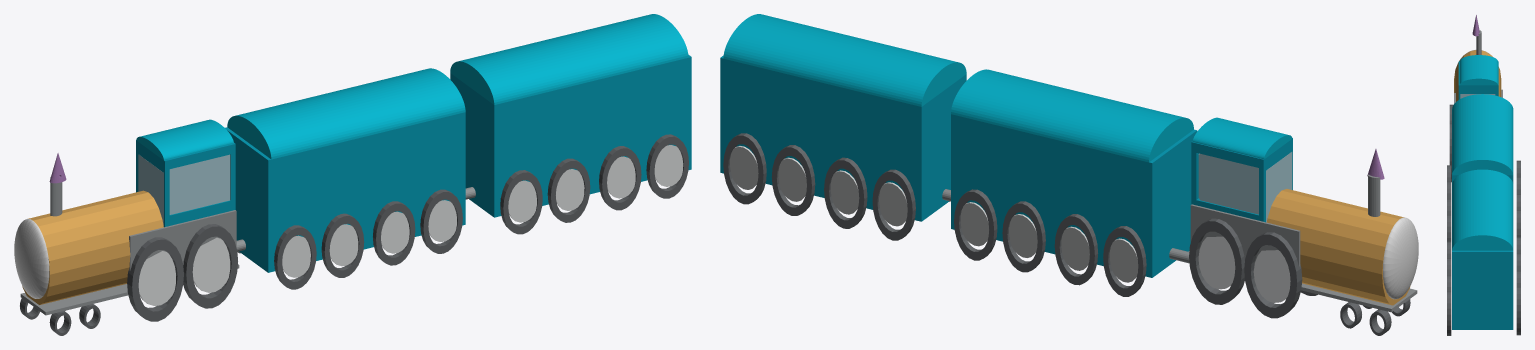
File: Train.glb
3 views of the same model, side by side, from view 1: azimuth 30°, elevation 25°; view 2: azimuth 150°, elevation 25°; view 3: azimuth 270°, elevation 25° (orthographic). The views are drawn at different scales.
Parts seen in each view (by area): view 1: Mesh_Mesh_head_geo.001_lambert2SG.001; view 2: Mesh_Mesh_head_geo.001_lambert2SG.001; view 3: Mesh_Mesh_head_geo.001_lambert2SG.001.
Boxes of the visible parts, x1=… form: Mesh_Mesh_head_geo.001_lambert2SG.001: x1=14, y1=14, x2=691, y2=335; Mesh_Mesh_head_geo.001_lambert2SG.001: x1=720, y1=14, x2=1418, y2=335; Mesh_Mesh_head_geo.001_lambert2SG.001: x1=1447, y1=15, x2=1520, y2=335.
Size of the model in its own units: 204 by 52.5 by 29.
